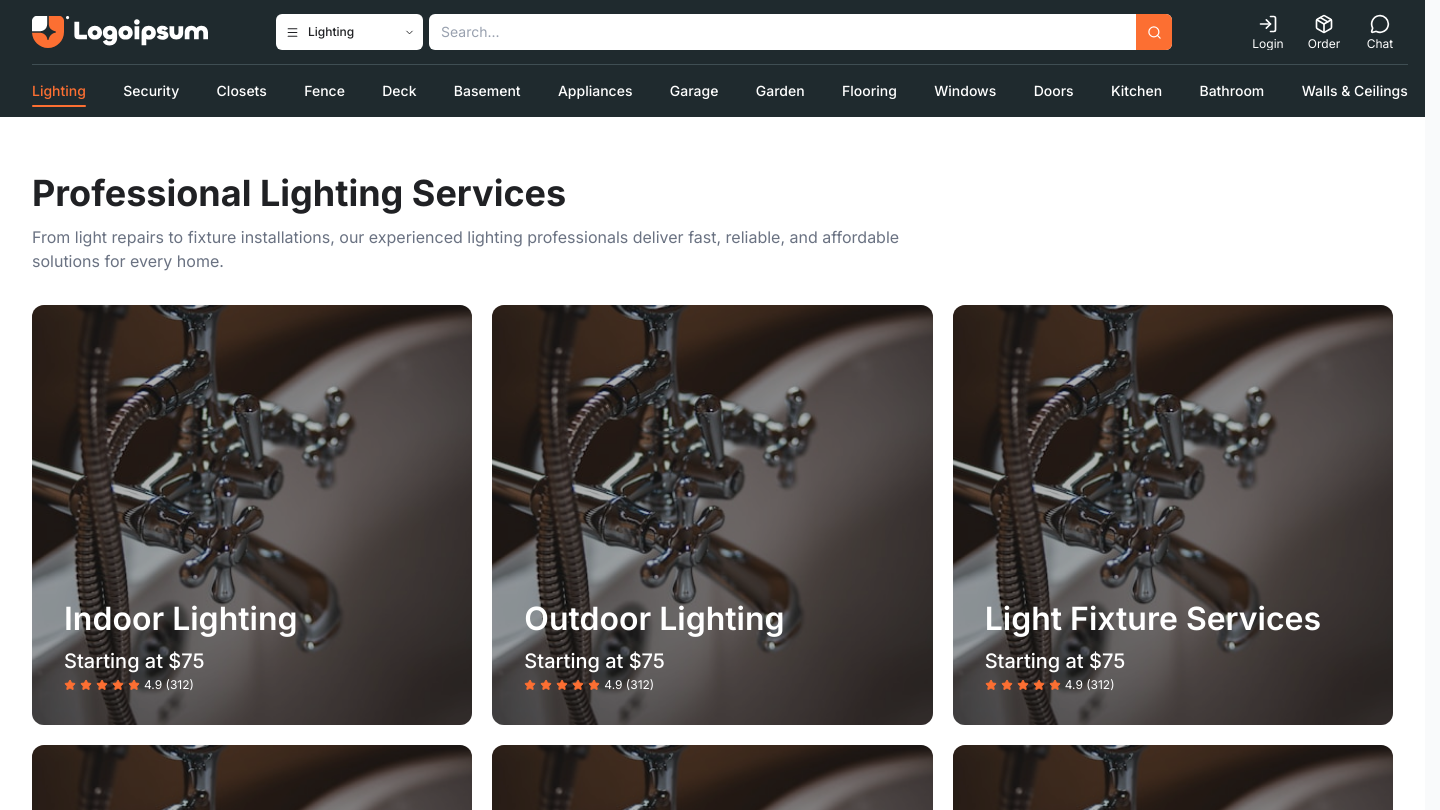
Scenario: Lighting page › opens child services when a subcategory card is clicked
Click the button "Indoor Lighting" at (252, 515), box [32,305,472,725]
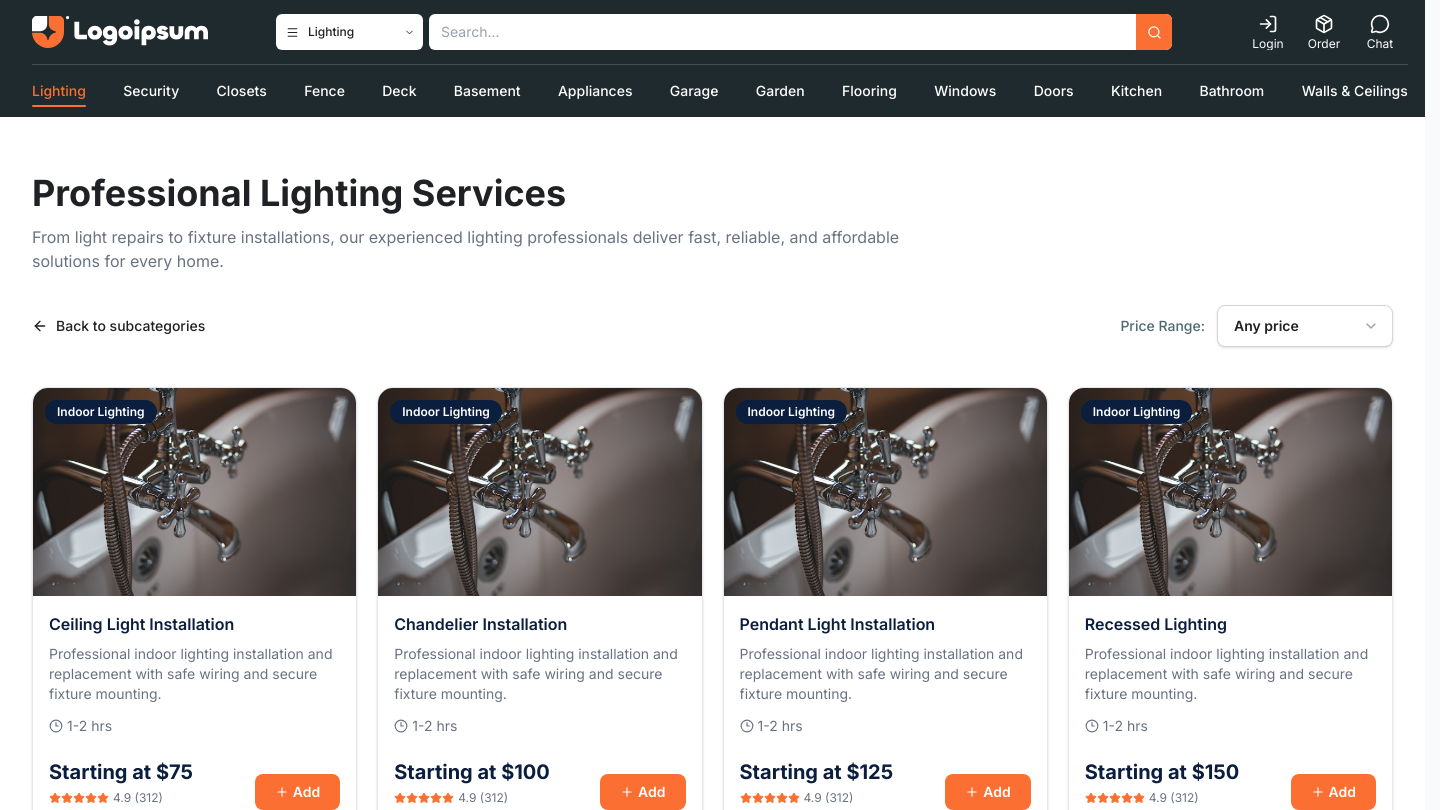
Now the heading "Ceiling Light Installation" is shown, box [49,614,234,634]
Now the button "Back to subcategories" is shown, box [32,316,205,336]
Now the button "Outdoor Lighting" is gone
